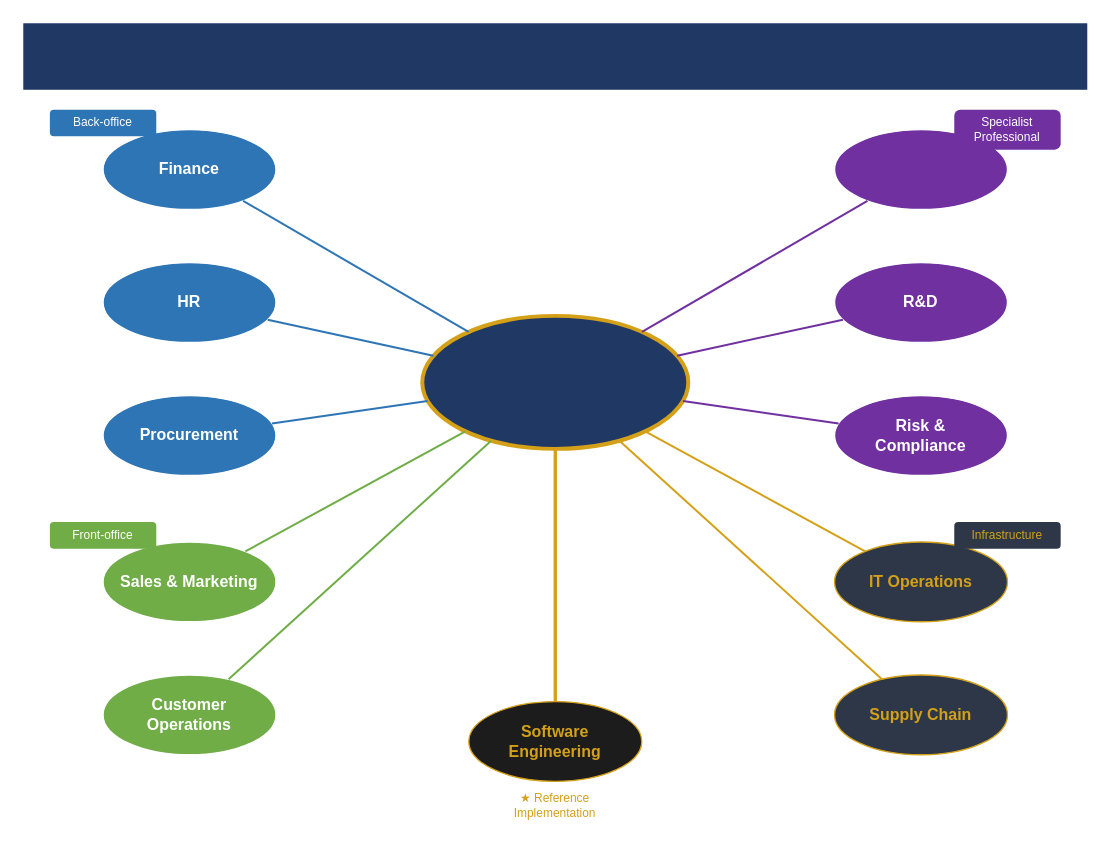
The diagram is 1109 pixels wide and 843 high, and some of its shapes have lost their labels. The shapes that lost their labels are listed below. From the top down, each one's box as (x1, y1, x2, y2) in pixels, then its label:
(23, 23, 1087, 89): AI Operational Maturity — Enterprise Knowledge Work Domains
(833, 128, 1007, 209): Legal
(420, 313, 690, 450): AI Operational Maturity Six Stage Framework
